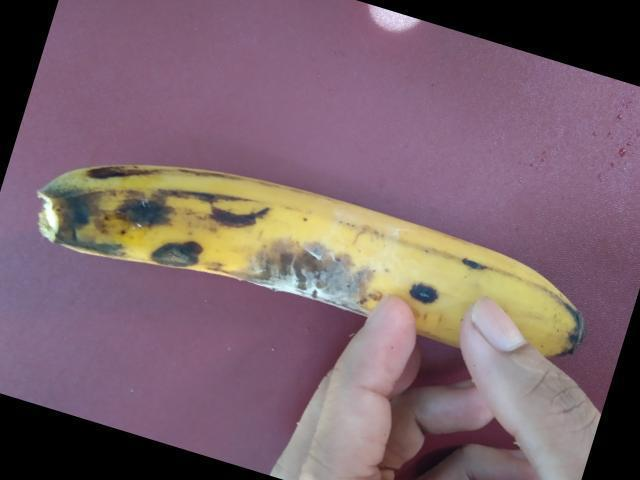overripe: (27, 140, 593, 378)
rotten: (239, 208, 390, 344)
